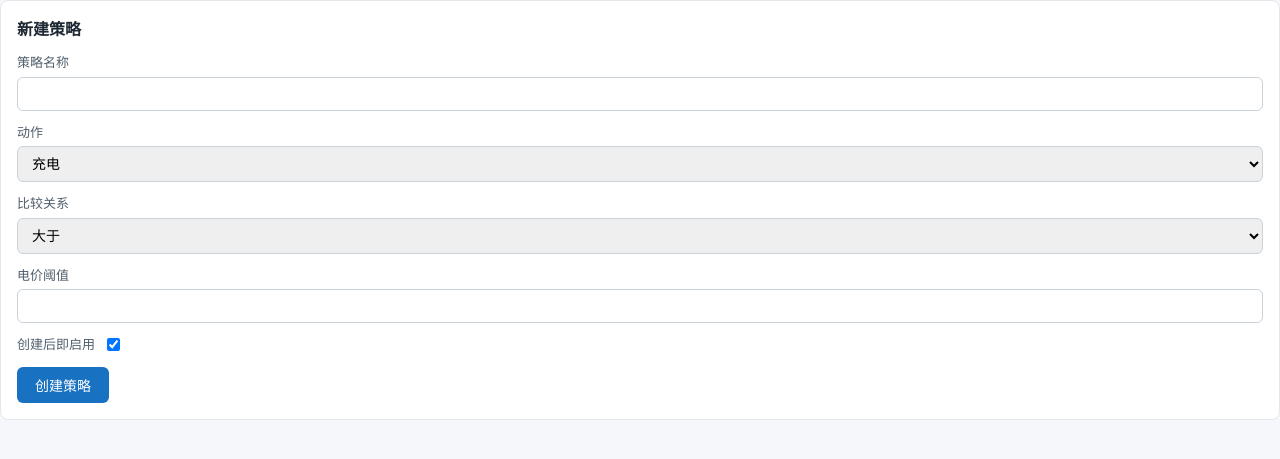
Test: StrategyForm 创建策略（需求 4.3） › 校验失败时在对应字段旁展示错误并保留用户输入
Type "异常策略" into the field labelled "策略名称". click: [640, 94]
box: [17,76,1263,110]
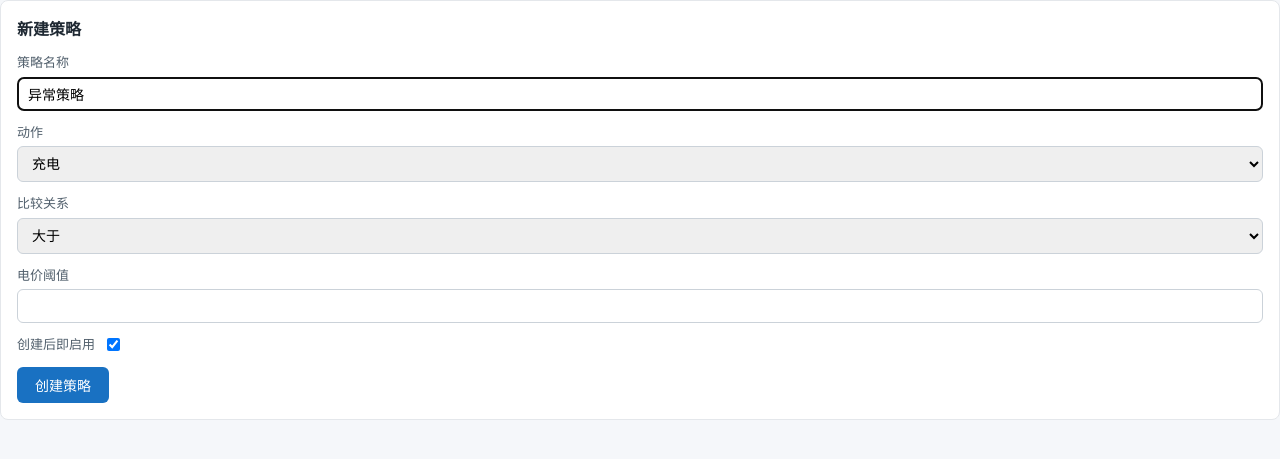
Type "0.5" into the number field labelled "电价阈值". click: [640, 306]
box: [17,289,1263,323]
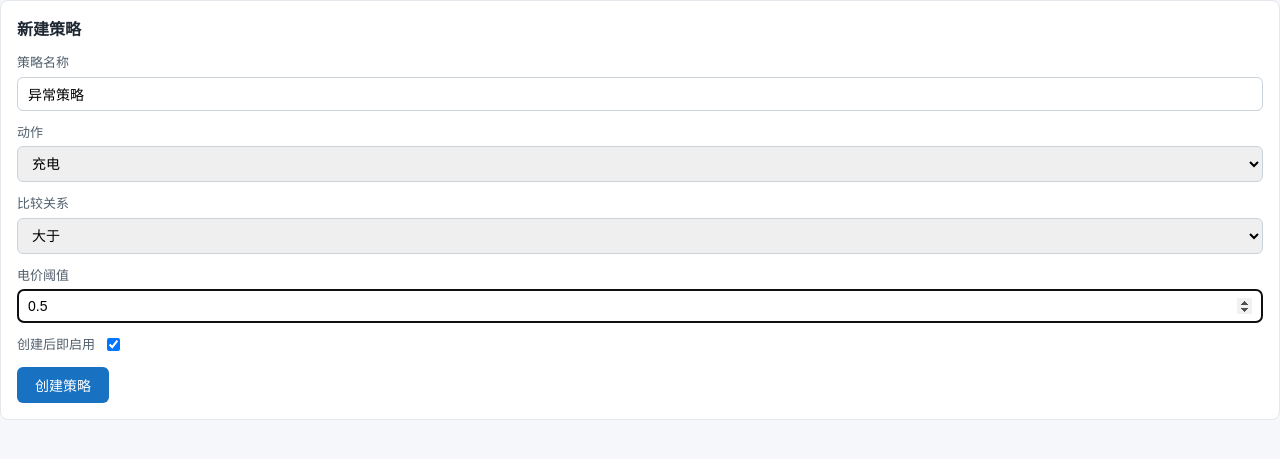
Click the button "创建策略". click: [63, 384]
box: [17,366,109,402]
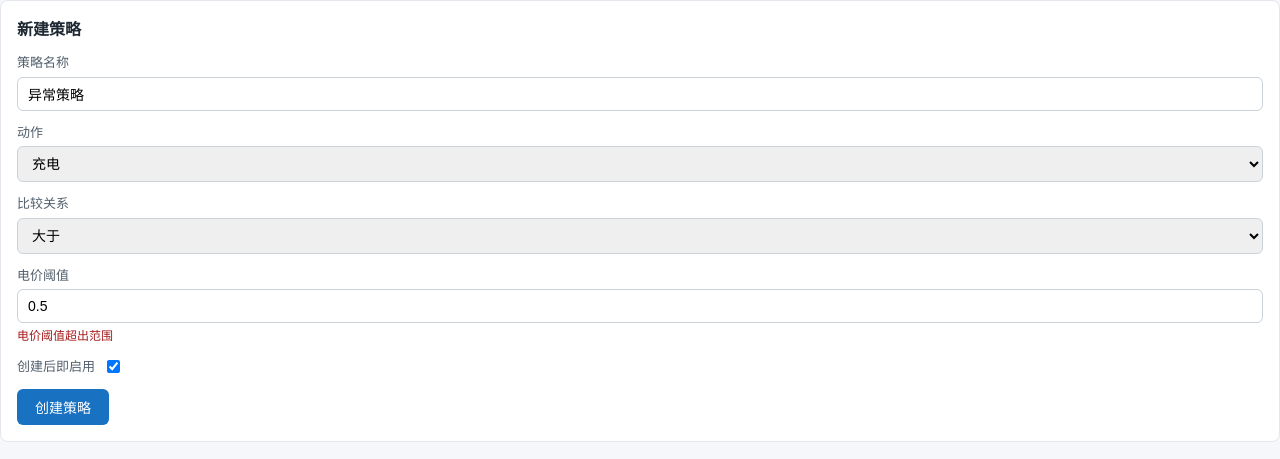
Expected: the message reads "电价阈值超出范围", [17,328,113,343]
